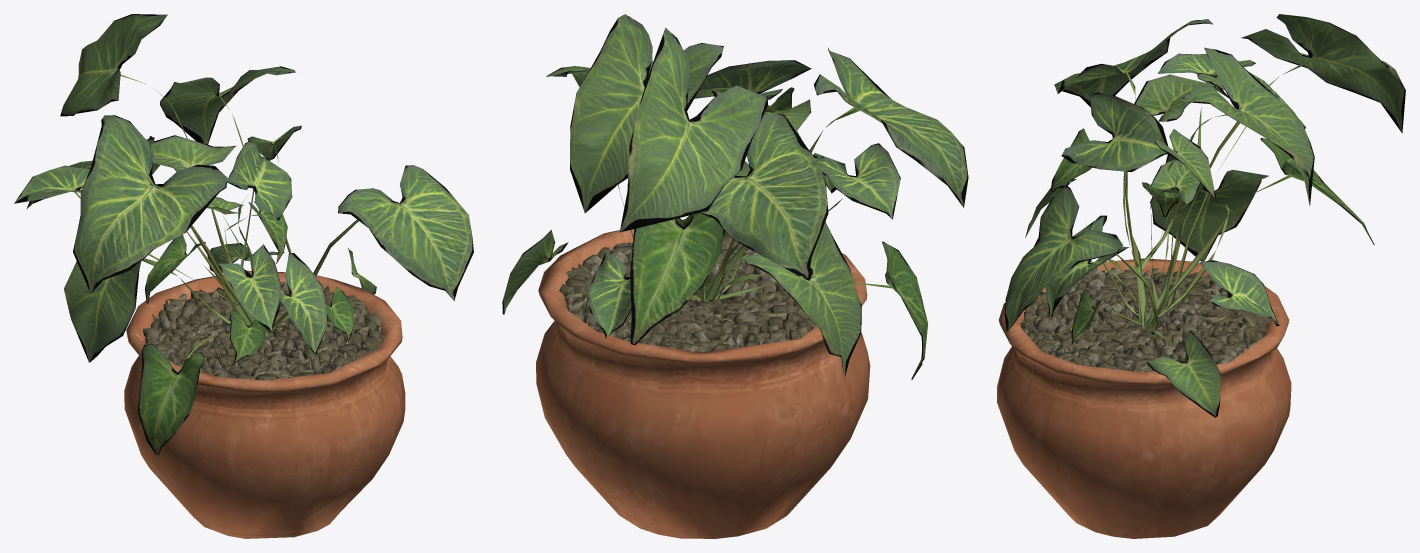
File: potted_plant_02.glb
3 renders of one model, left to right at view 1: azimuth 30°, elevation 25°; view 2: azimuth 150°, elevation 25°; view 3: azimuth 270°, elevation 25°, orthographic. The views are drawn at different scales.
Parts seen in each view (by area): view 1: potted_plant_02_leaves, potted_plant_02_pot, potted_plant_02_dirt; view 2: potted_plant_02_leaves, potted_plant_02_pot, potted_plant_02_dirt; view 3: potted_plant_02_leaves, potted_plant_02_pot, potted_plant_02_dirt.
Boxes of the visible parts, bbox=[...] form: potted_plant_02_leaves: bbox=[14, 14, 473, 454]; potted_plant_02_pot: bbox=[124, 270, 405, 538]; potted_plant_02_dirt: bbox=[143, 282, 385, 380]; potted_plant_02_leaves: bbox=[502, 14, 968, 379]; potted_plant_02_pot: bbox=[536, 219, 870, 538]; potted_plant_02_dirt: bbox=[559, 232, 816, 352]; potted_plant_02_leaves: bbox=[1004, 14, 1405, 417]; potted_plant_02_pot: bbox=[997, 258, 1291, 538]; potted_plant_02_dirt: bbox=[1020, 267, 1269, 372].
Size of the model in its own units: 0.7012 by 0.8401 by 0.6537.
2 materials, 2 textured.
